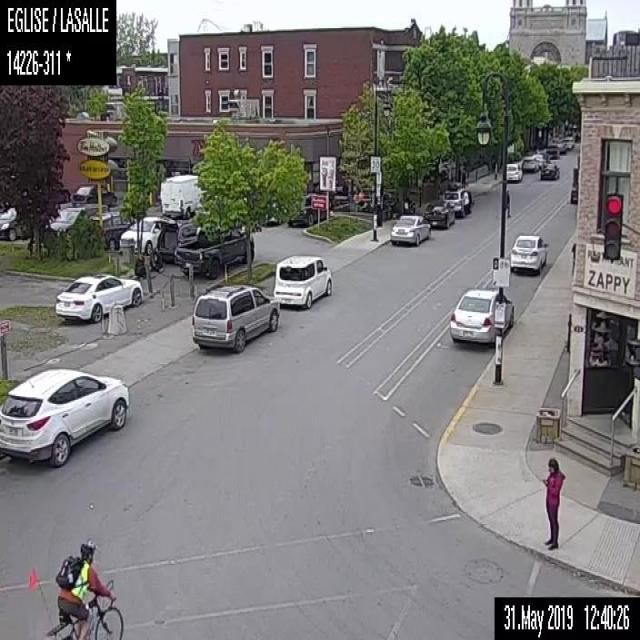cyclist: (27, 538, 124, 638)
pedestrian: (541, 457, 564, 551), (148, 246, 163, 272), (134, 253, 146, 278), (461, 188, 471, 213), (505, 188, 510, 217)
vehicle: (0, 366, 130, 466), (189, 282, 279, 354), (176, 222, 254, 279), (447, 285, 516, 344), (270, 252, 332, 310), (119, 214, 174, 252), (160, 172, 205, 215), (88, 211, 133, 250), (50, 204, 106, 234), (508, 232, 548, 273), (388, 212, 430, 247), (288, 192, 330, 225), (71, 184, 117, 209), (442, 180, 472, 215), (158, 222, 183, 263), (0, 206, 27, 242), (425, 201, 455, 228), (538, 162, 557, 182), (520, 155, 539, 171), (506, 162, 522, 181), (554, 138, 568, 154), (531, 154, 545, 168), (546, 143, 560, 157), (569, 178, 577, 202), (536, 148, 549, 161), (563, 135, 574, 148)
